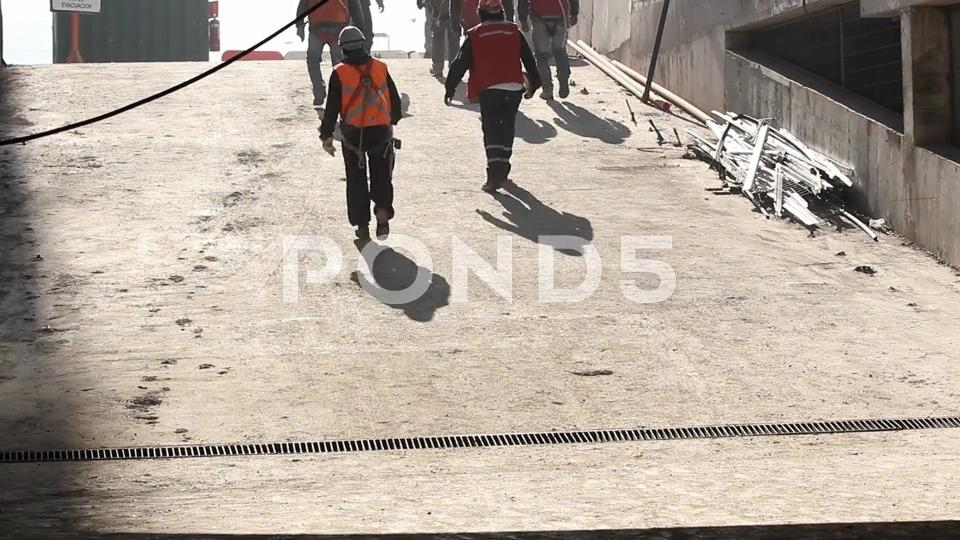hat: (322, 22, 381, 68), (470, 1, 525, 41)
vest: (314, 65, 420, 141), (461, 32, 545, 107), (281, 1, 361, 54), (524, 1, 592, 45), (438, 1, 517, 34)
